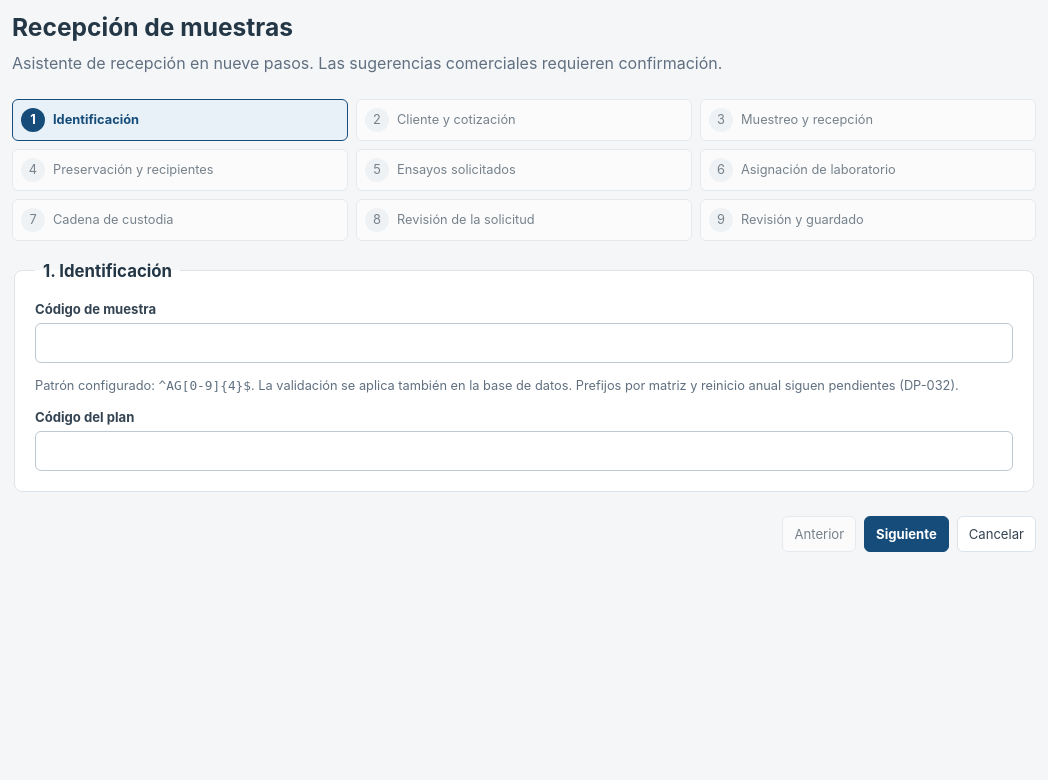
Test case: recepción y búsqueda de muestras › acepta AG0346 y rechaza AG00106 en el asistente
Expected: the text "Asistente de recepción en nueve pasos. Las sugerencias comerciales requieren confirmación." is shown, x1=12 y1=53 x2=722 y2=73
Step 1. Type "AG00106" into the field labelled "Código de muestra" → (524, 343), box x1=35 y1=323 x2=1013 y2=363
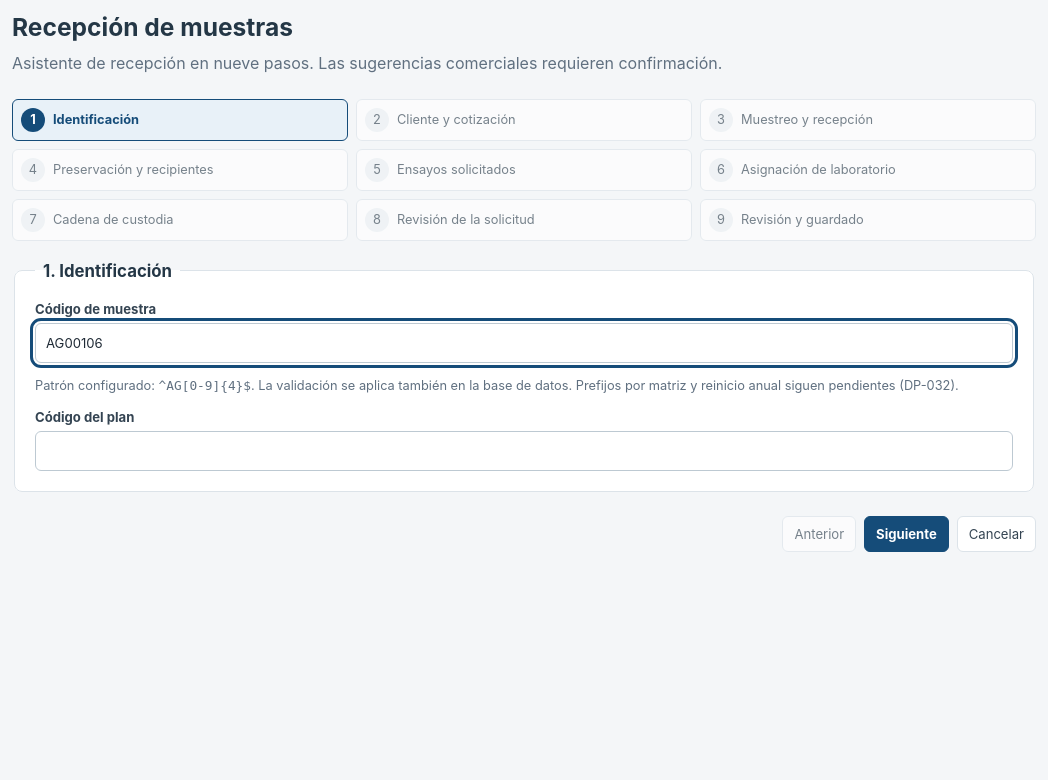
Step 2. Click the button "Siguiente" → (906, 534), box x1=864 y1=516 x2=949 y2=552
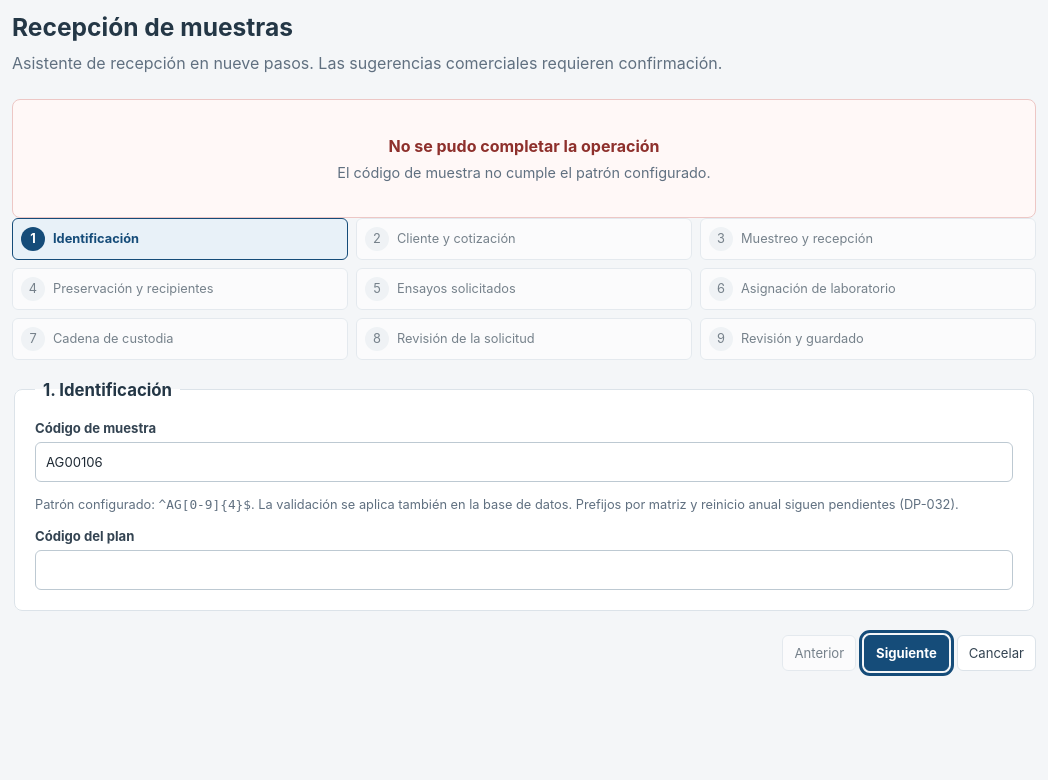
Now the text "El código de muestra no cumple el patrón configurado." is shown, box x1=337 y1=164 x2=711 y2=181
Step 3. Replace the text in the field labelled "Código de muestra" with "AG0346" → (524, 462), box x1=35 y1=442 x2=1013 y2=482
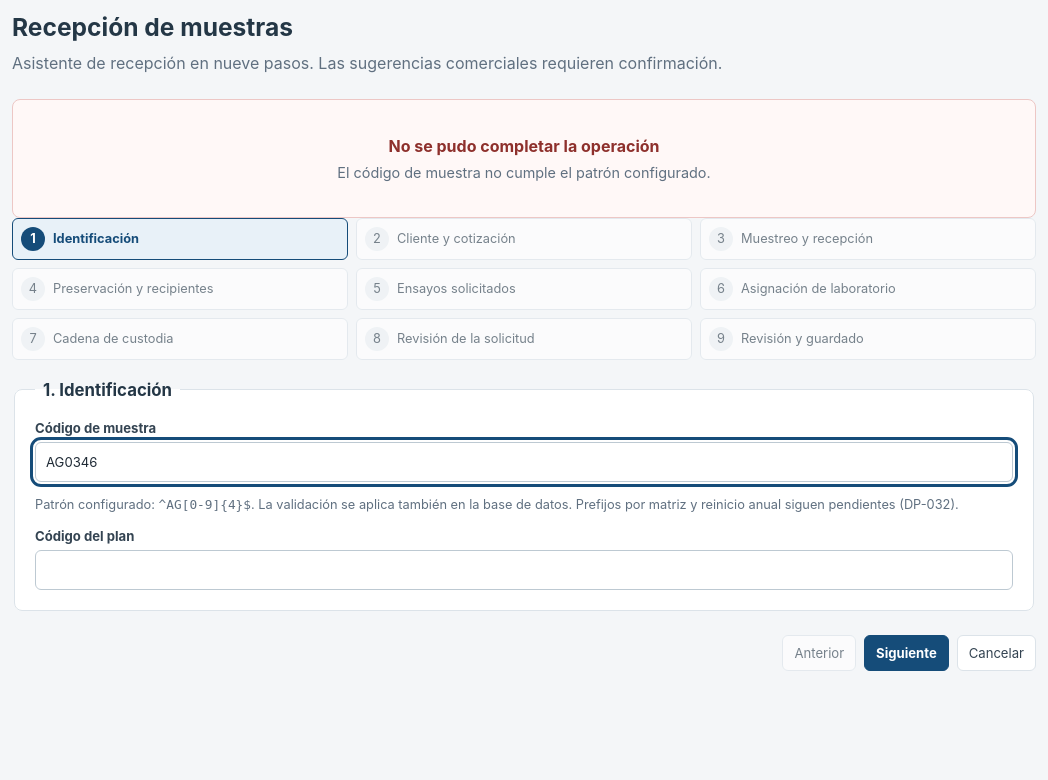
Step 4. Click the button "Siguiente" → (906, 653), box x1=864 y1=635 x2=949 y2=671
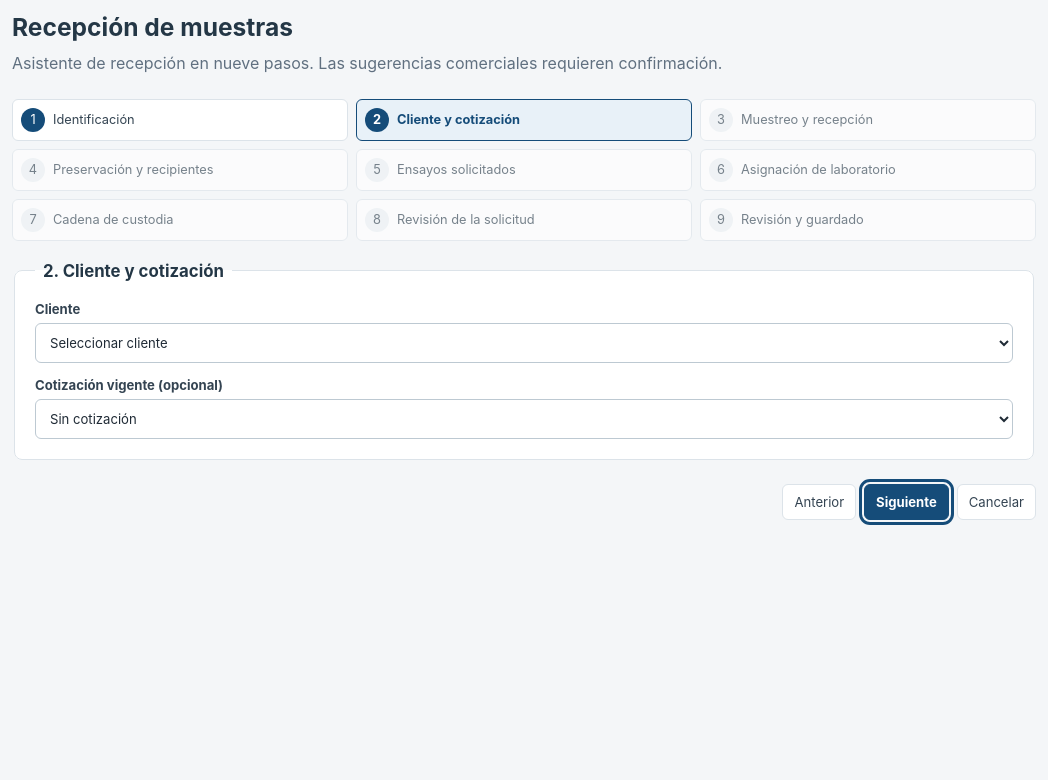
Now the dropdown labelled "Cliente" is shown, box x1=35 y1=323 x2=1013 y2=363
